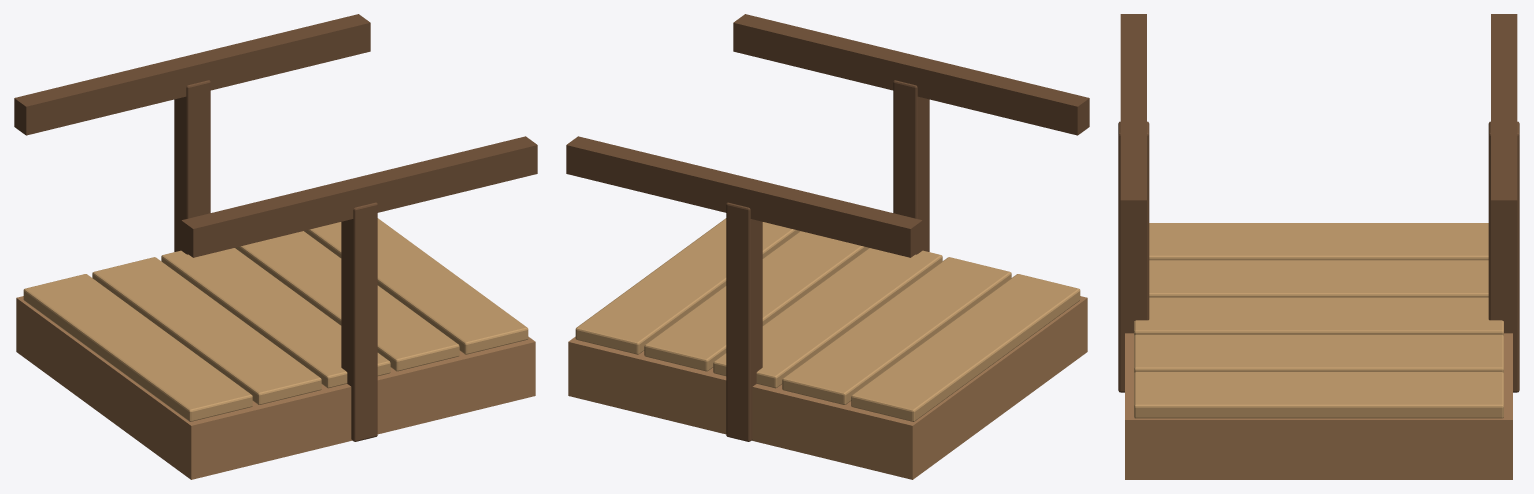
The model's file is bridge-post.glb.
3 renders of one model, left to right at view 1: azimuth 30°, elevation 25°; view 2: azimuth 150°, elevation 25°; view 3: azimuth 270°, elevation 25°, orthographic. The views are drawn at different scales.
Parts seen in each view (by area): view 1: Bridge highlights, Dark beams, Bridge oak; view 2: Bridge highlights, Dark beams, Bridge oak; view 3: Bridge highlights, Bridge oak, Dark beams.
Boxes of the visible parts, x1,y1,x2,y2 form: Bridge highlights: [23, 218, 528, 421]; Dark beams: [14, 14, 537, 441]; Bridge oak: [16, 296, 535, 479]; Bridge highlights: [575, 218, 1080, 421]; Dark beams: [566, 14, 1089, 441]; Bridge oak: [568, 296, 1087, 479]; Bridge highlights: [1134, 223, 1503, 418]; Bridge oak: [1125, 333, 1512, 479]; Dark beams: [1118, 14, 1519, 392].
Bounding box in the file's own units: 1 × 0.7 × 0.91.
